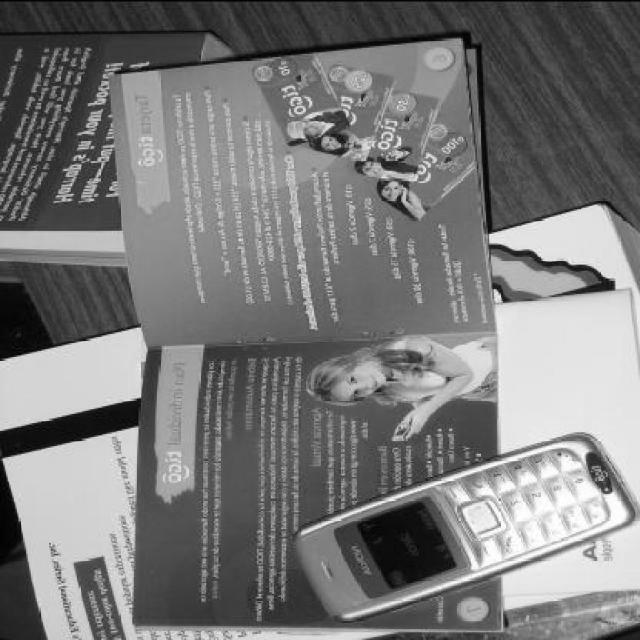fake: (288, 428, 636, 622), (389, 424, 411, 440), (341, 138, 364, 147), (380, 152, 396, 158)
